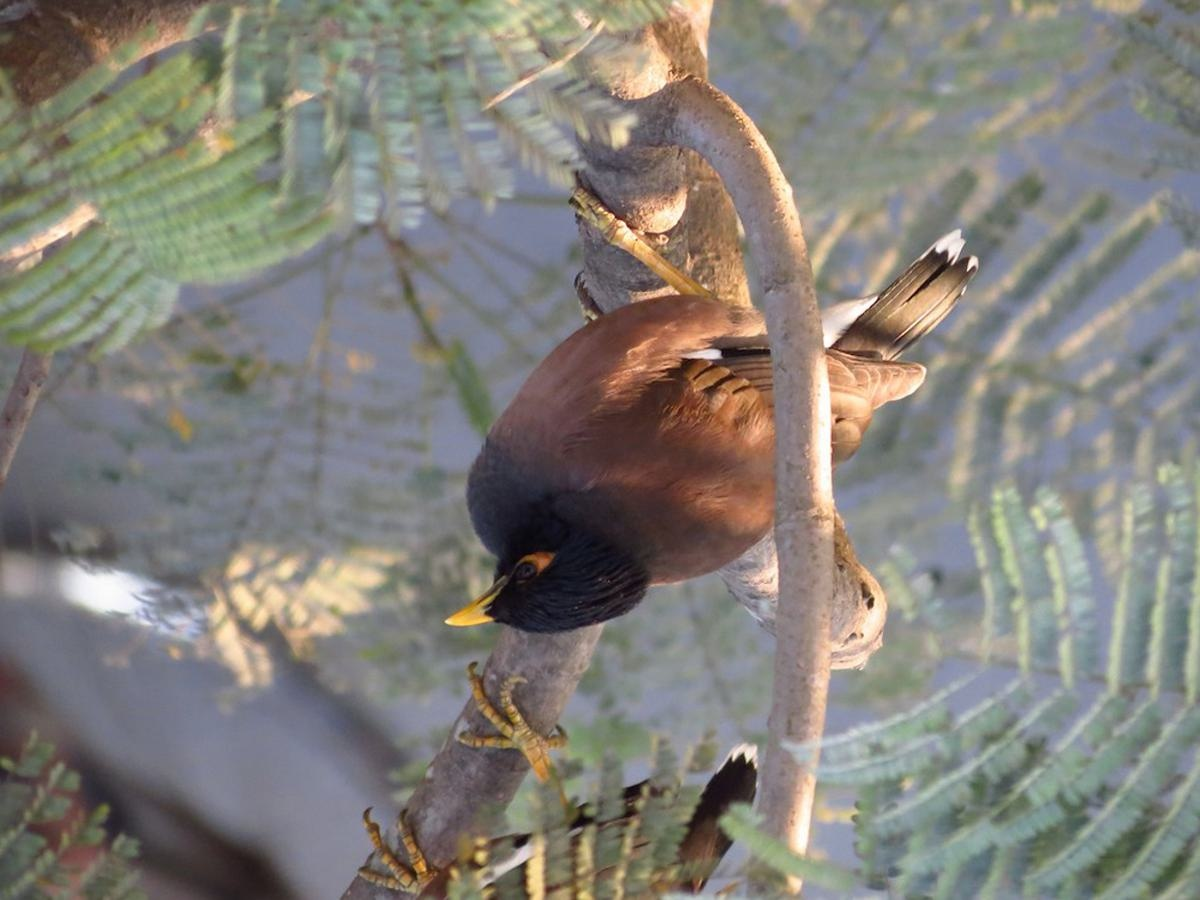myna: (447, 247, 905, 653)
